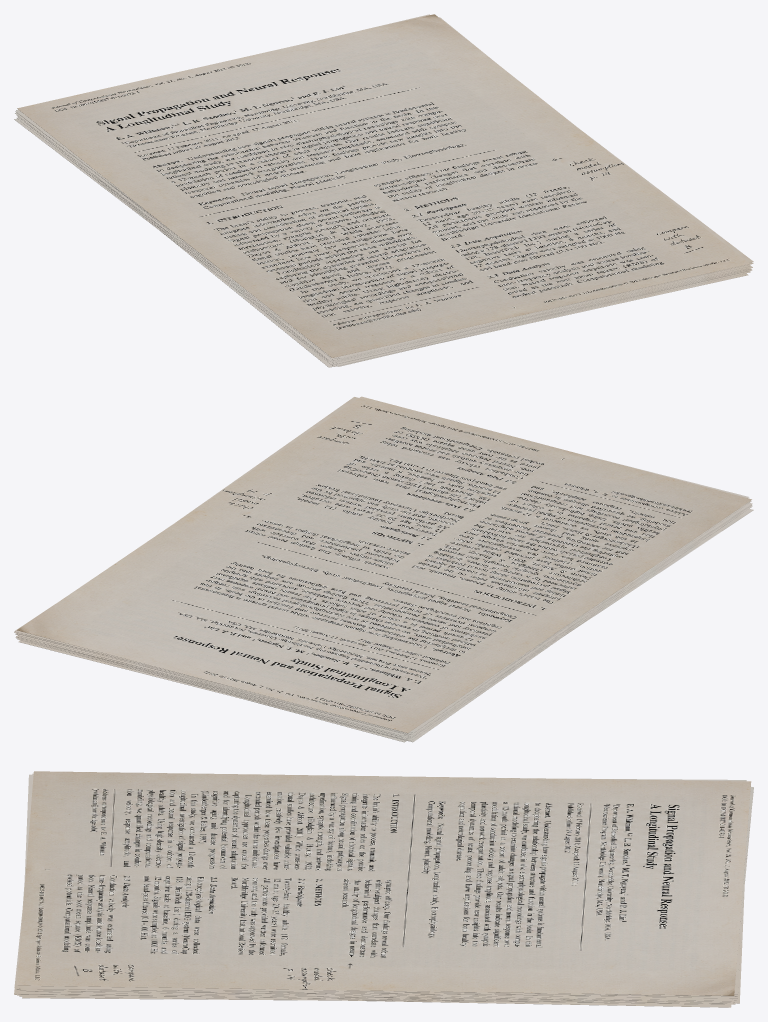
File: GenericProp-DocumentStack.fbx
The picture shows the model from 3 angles, top to bottom: view 1: azimuth 30°, elevation 25°; view 2: azimuth 150°, elevation 25°; view 3: azimuth 270°, elevation 25°; orthographic projection. The views are drawn at different scales.
Visible parts, largest first — view 1: PaperSheet.098_White_0; view 2: PaperSheet.098_White_0; view 3: PaperSheet.098_White_0.
Boxes of the visible parts, x1,y1,x2,y2 form: PaperSheet.098_White_0: (14,14,753,367); PaperSheet.098_White_0: (14,396,753,742); PaperSheet.098_White_0: (14,771,753,1007).
Size of the model in its own units: 44.62 by 0.9589 by 61.24.
